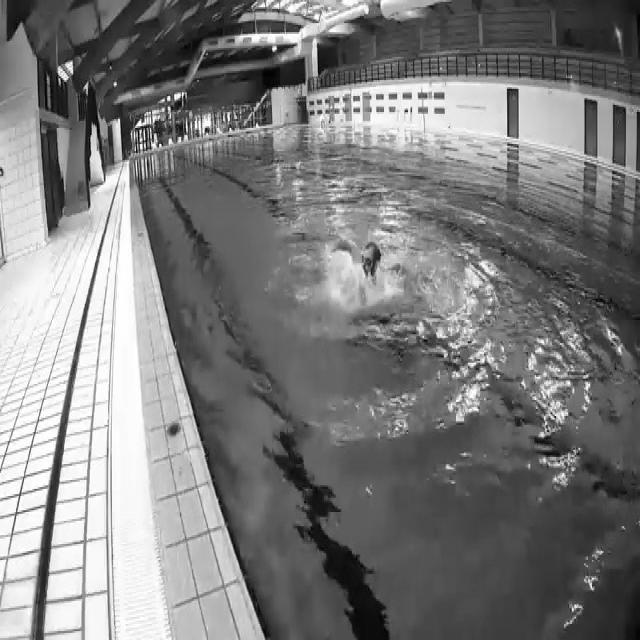Drowning: (315, 207, 430, 370)
